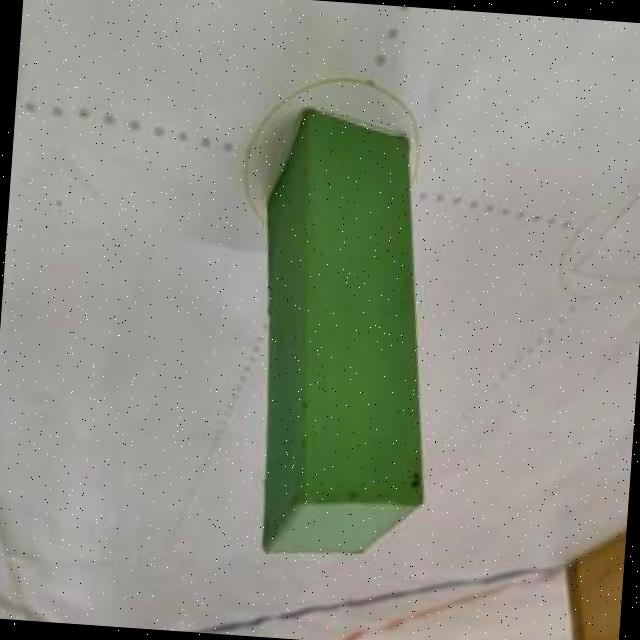greenbox: (240, 96, 453, 564)
